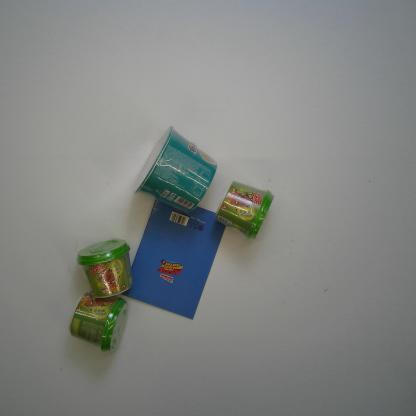Instant Drink: (67, 292, 130, 353), (75, 237, 134, 300), (214, 181, 275, 241)
Instant Noodles: (132, 126, 219, 214)
Stationery: (122, 198, 226, 321)
